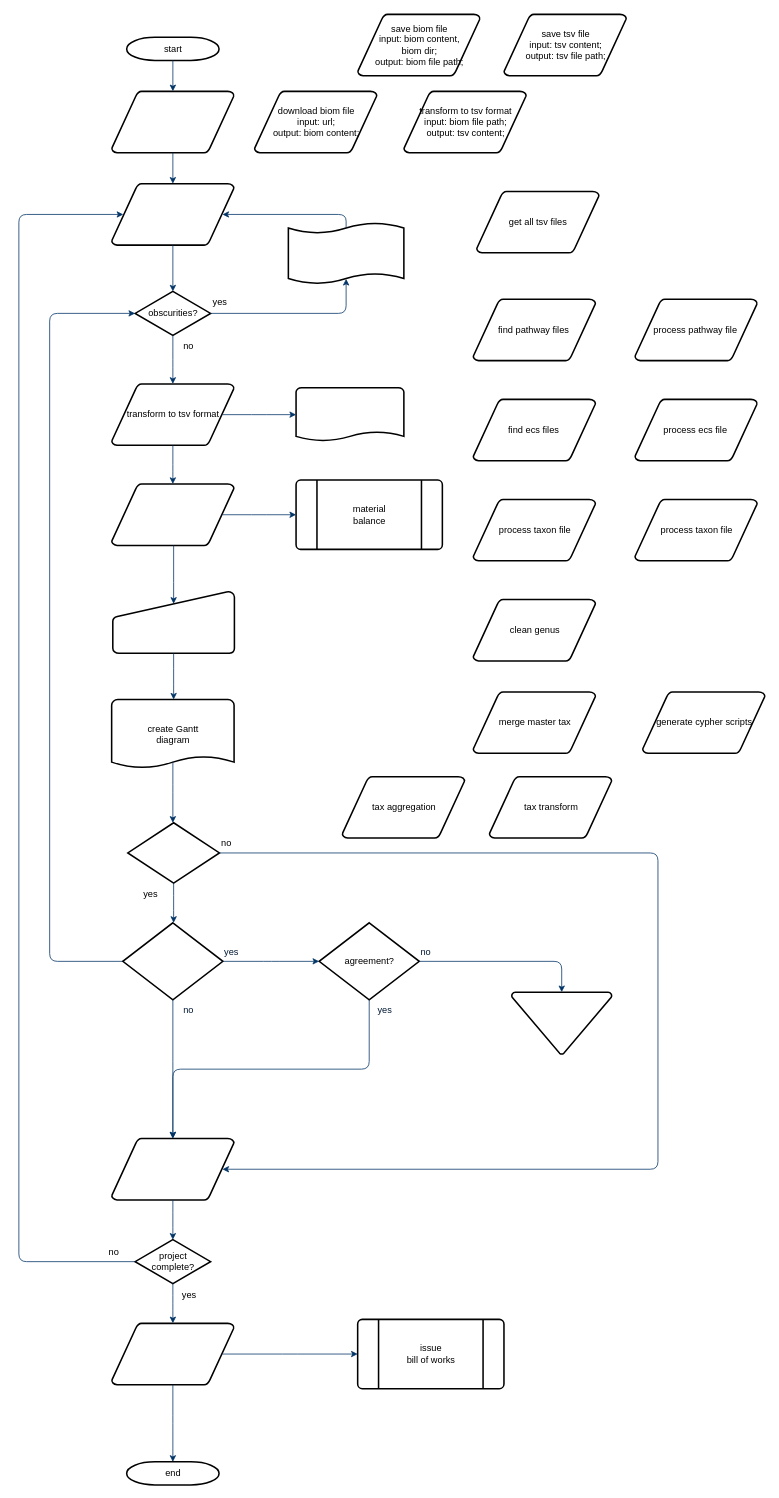
The diagram is 779 pixels wide and 1498 high, and some of its shapes have lost their labels. Here are the shapes that lost their labels. From the top down, the box of each, then its label:
(110, 90, 234, 153): get urls input: master_list path; output: urls;
(110, 182, 234, 246): download biom file
(287, 221, 404, 285): iron out obscurities with investor
(295, 387, 404, 442): final project
(110, 483, 234, 546): order material
(112, 591, 235, 654): organize workforce
(127, 822, 220, 884): late project changes?
(122, 922, 223, 1000): investor disapproves investment?
(511, 991, 612, 1055): terminate contract
(110, 1137, 234, 1200): create status report
(110, 1322, 234, 1385): create final report
